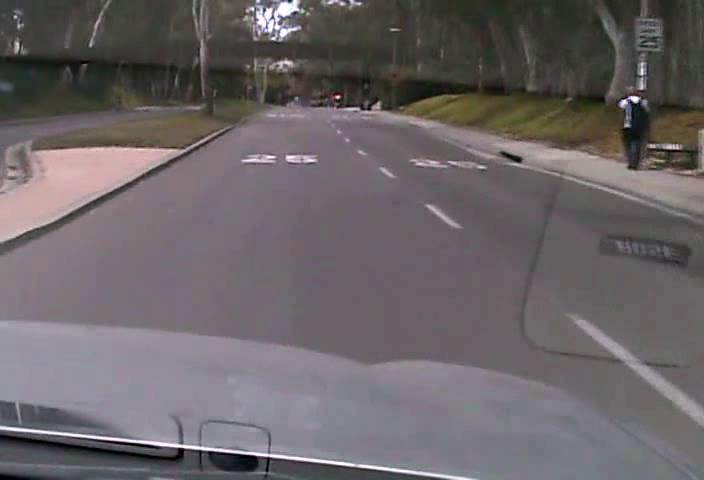speedLimit25: (633, 16, 663, 52)
